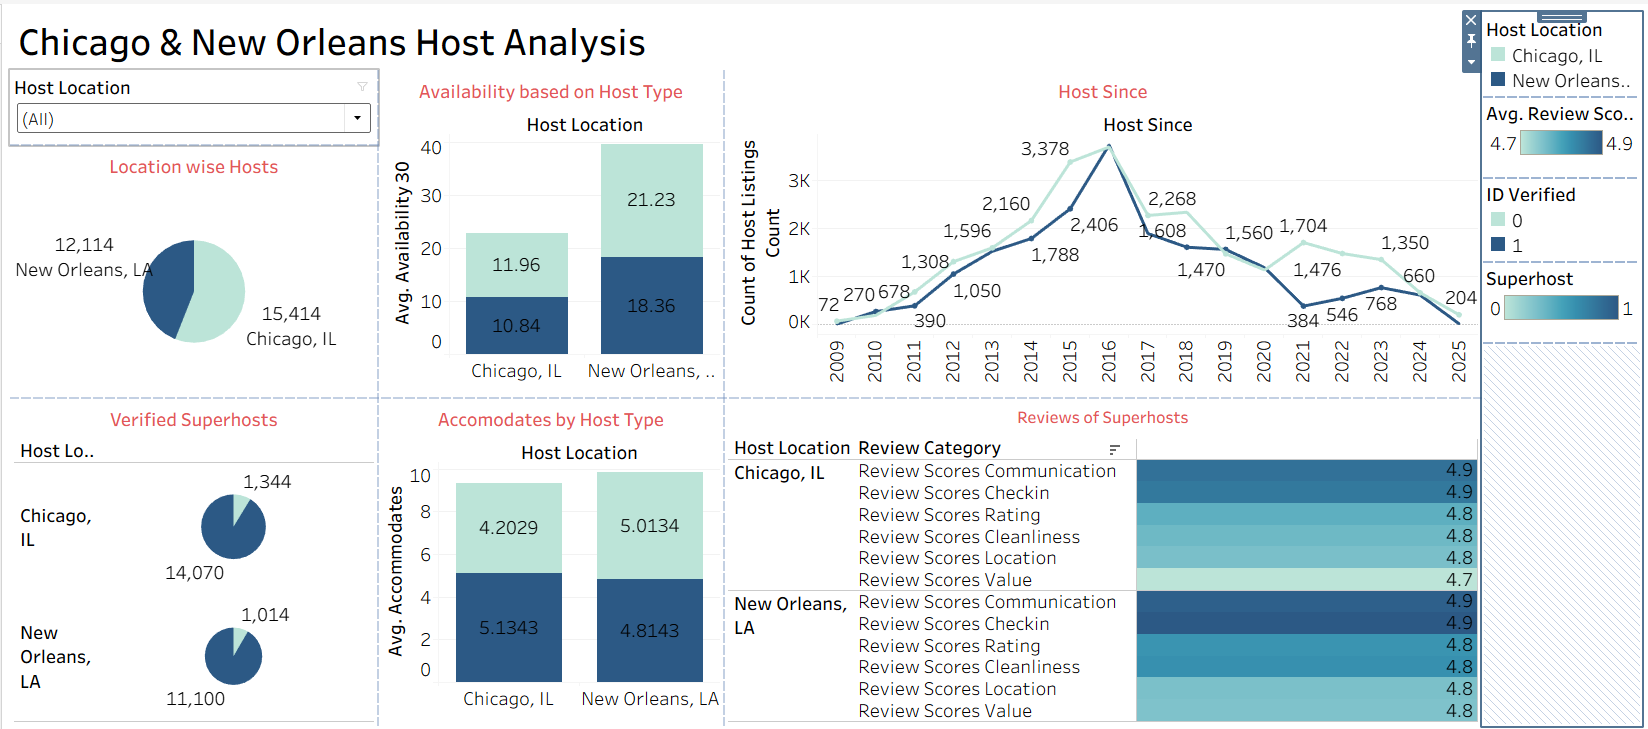

The dashboard page shown, as its layout file describes it:
{"tool":"tableau","page":{"name":"DB - Host Analysis","canvas":[1000,1000],"units":"permille","ordinal":0},"visuals":[{"type":"title","box":[4.9,11,893.2,79.5]},{"type":"legend","title":"Location wise Hosts","param":"[federated.1dk3tz613rppmf14h9z8i1sxdjd3].[none:host_location:nk]","box":[898.1,11,97.1,115.1]},{"type":"filter","title":"Location wise Hosts","param":"[federated.1dk3tz613rppmf14h9z8i1sxdjd3].[none:host_location:nk]","box":[4.9,90.4,223.3,102.7]},{"type":"worksheet","title":"Availability based on Host Type","mark":"Automatic","rows":["availability_30"],"cols":["host_location"],"box":[228.2,90.4,210,449.3]},{"type":"worksheet","title":"Host Since","mark":"Automatic","rows":["host_listings_count"],"cols":["host_since"],"box":[438.1,90.4,459.9,449.3]},{"type":"legend","title":"Reviews of Superhosts","param":"[federated.1dk3tz613rppmf14h9z8i1sxdjd3].[avg:Pivot Field Values:qk]","box":[898.1,126,97.1,111]},{"type":"worksheet","title":"Location wise Hosts","mark":"Pie","box":[4.9,193.2,223.3,346.6]},{"type":"legend","title":"Verified Superhosts","param":"[federated.1dk3tz613rppmf14h9z8i1sxdjd3].[none:ID Verified:ok]","box":[898.1,237,97.1,115.1]},{"type":"legend","title":"Availability based on Host Type","param":"[federated.1dk3tz613rppmf14h9z8i1sxdjd3].[none:Superhost:qk]","box":[898.1,352.1,97.1,111]},{"type":"worksheet","title":"Verified Superhosts","mark":"Pie","rows":["host_location"],"box":[4.9,539.7,223.3,449.3]},{"type":"worksheet","title":"Accomodates by Host Type","mark":"Automatic","rows":["accommodates"],"cols":["host_location"],"box":[228.2,539.7,210,449.3]},{"type":"worksheet","title":"Reviews of Superhosts","mark":"Square","rows":["host_location","Pivot Field Names"],"box":[438.1,539.7,459.9,449.3]}]}

Visuals, with their boxes on the dashboard's canvas, which has no fixed pixel size, in thousandths of its width and height (x1, y1, x2, y2). These are canvas units, not pixel positions in the 1648x729 screenshot, which may show the page scaled, cropped or inside an application window:
title: crop(5, 11, 898, 90)
"Location wise Hosts" legend: crop(898, 11, 995, 126)
"Location wise Hosts" filter: crop(5, 90, 228, 193)
"Availability based on Host Type" worksheet: crop(228, 90, 438, 540)
"Host Since" worksheet: crop(438, 90, 898, 540)
"Reviews of Superhosts" legend: crop(898, 126, 995, 237)
"Location wise Hosts" worksheet (Pie marks): crop(5, 193, 228, 540)
"Verified Superhosts" legend: crop(898, 237, 995, 352)
"Availability based on Host Type" legend: crop(898, 352, 995, 463)
"Verified Superhosts" worksheet (Pie marks): crop(5, 540, 228, 989)
"Accomodates by Host Type" worksheet: crop(228, 540, 438, 989)
"Reviews of Superhosts" worksheet (Square marks): crop(438, 540, 898, 989)
